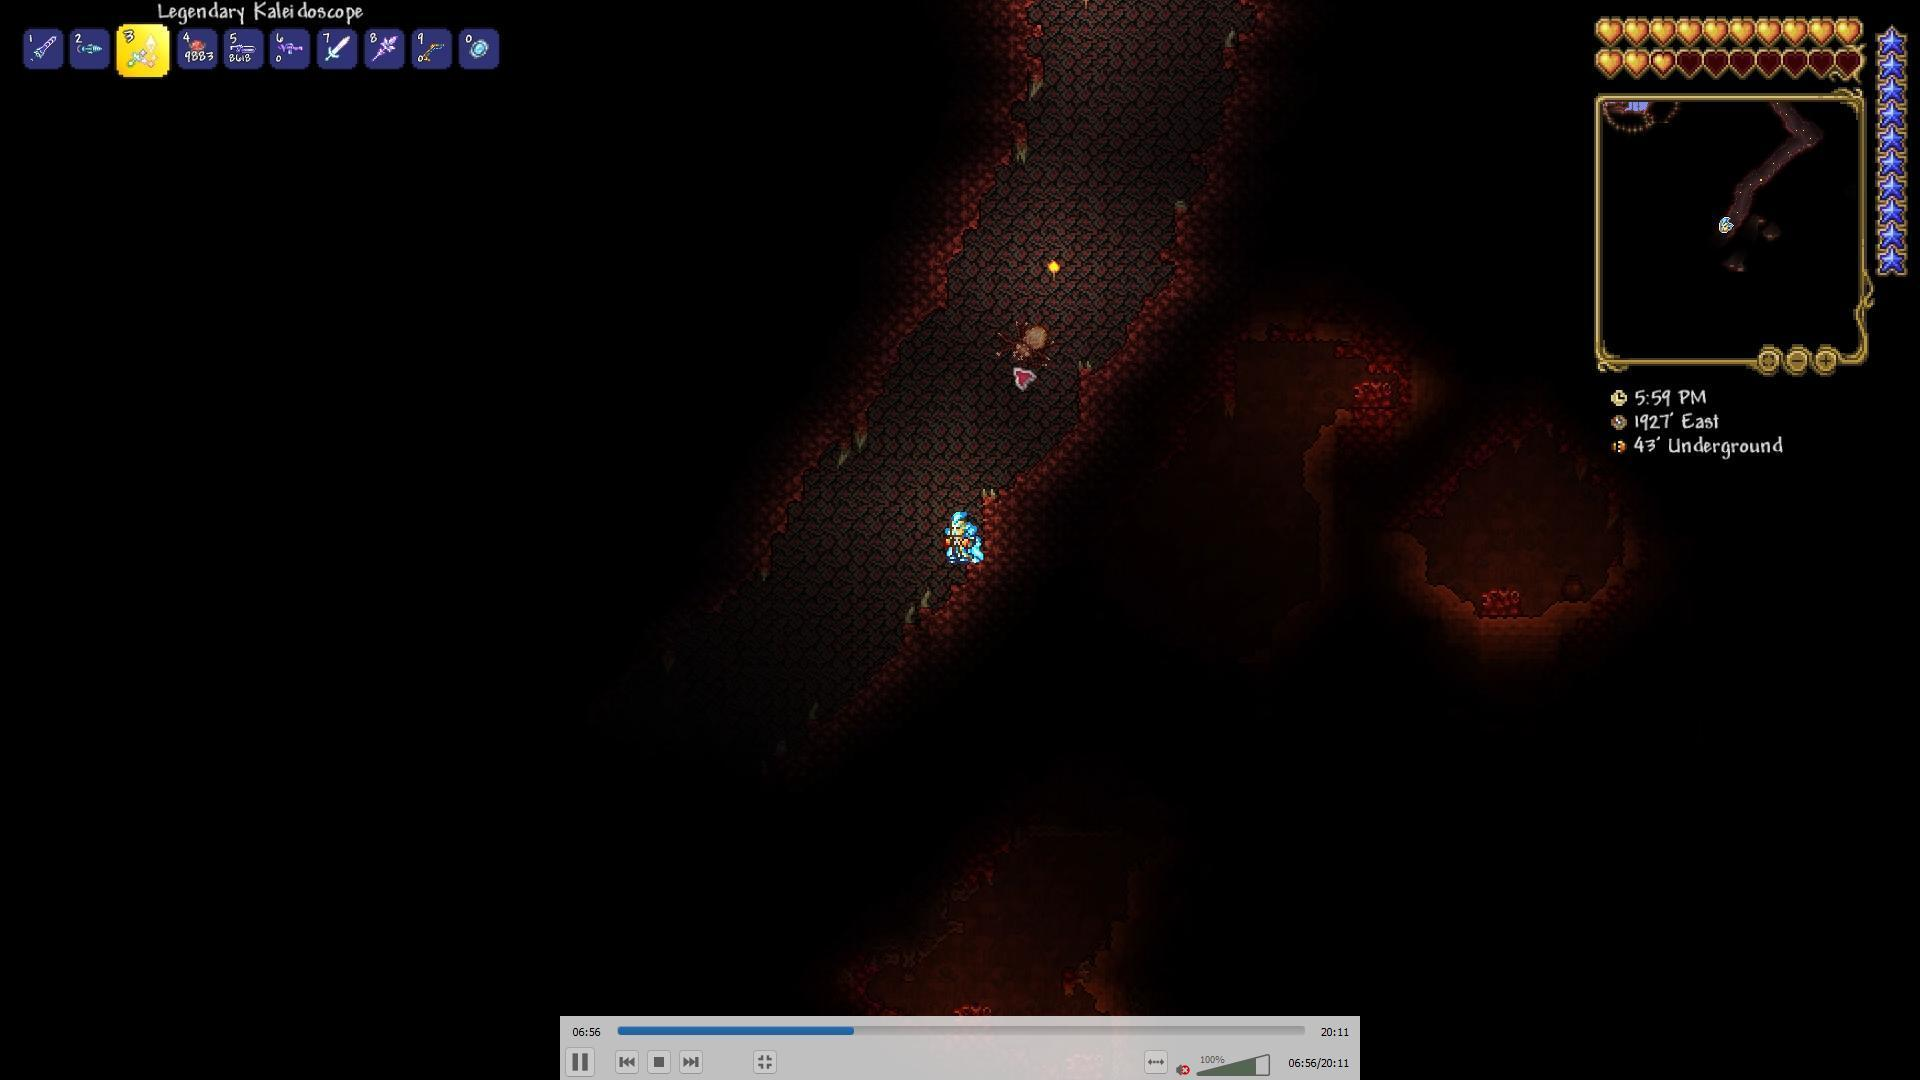altar: (1346, 371, 1400, 414), (1473, 578, 1527, 621)
spider: (993, 305, 1062, 380)
